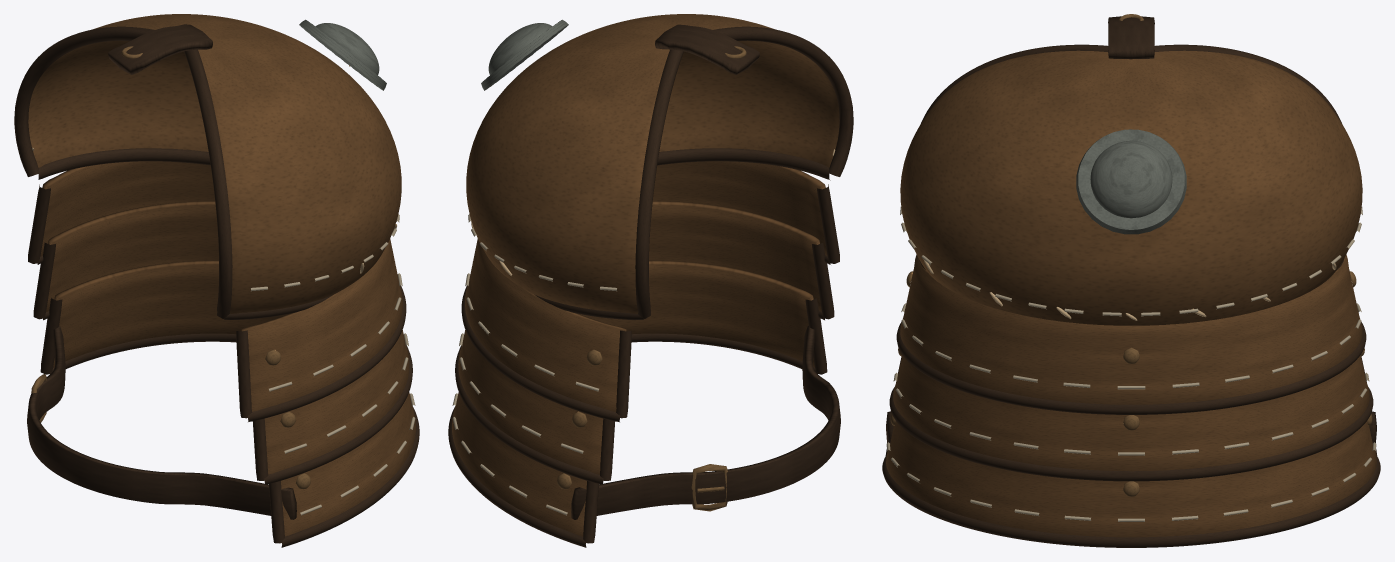
The picture shows the model from 3 angles, left to right: view 1: azimuth 30°, elevation 25°; view 2: azimuth 150°, elevation 25°; view 3: azimuth 270°, elevation 25°; orthographic projection. The views are drawn at different scales.
Visible parts, largest first — view 1: tanned leather, oiled strap leather, weathered plate, waxed linen thread, aged alloy edge; view 2: tanned leather, oiled strap leather, weathered plate, waxed linen thread, aged alloy edge; view 3: tanned leather, oiled strap leather, weathered plate, waxed linen thread, aged alloy edge.
Part boxes in pixels (x1=…): tanned leather: x1=28, y1=14, x2=415, y2=536; oiled strap leather: x1=14, y1=24, x2=419, y2=547; weathered plate: x1=299, y1=19, x2=386, y2=90; waxed linen thread: x1=251, y1=214, x2=415, y2=515; aged alloy edge: x1=31, y1=46, x2=376, y2=489; tanned leather: x1=452, y1=14, x2=839, y2=536; oiled strap leather: x1=448, y1=24, x2=853, y2=547; weathered plate: x1=481, y1=19, x2=568, y2=90; waxed linen thread: x1=452, y1=214, x2=616, y2=515; aged alloy edge: x1=491, y1=46, x2=746, y2=511; tanned leather: x1=886, y1=50, x2=1376, y2=537; oiled strap leather: x1=882, y1=16, x2=1380, y2=547; weathered plate: x1=1076, y1=129, x2=1186, y2=234; waxed linen thread: x1=886, y1=207, x2=1376, y2=521; aged alloy edge: x1=890, y1=14, x2=1372, y2=496.
Bounding box in the file's own units: 0.1935 × 0.2339 × 0.2415.
Materials: 7 (5 with a texture image).
